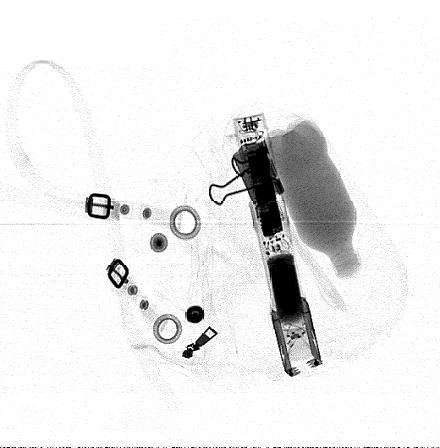Baton: (232, 109, 324, 379)
